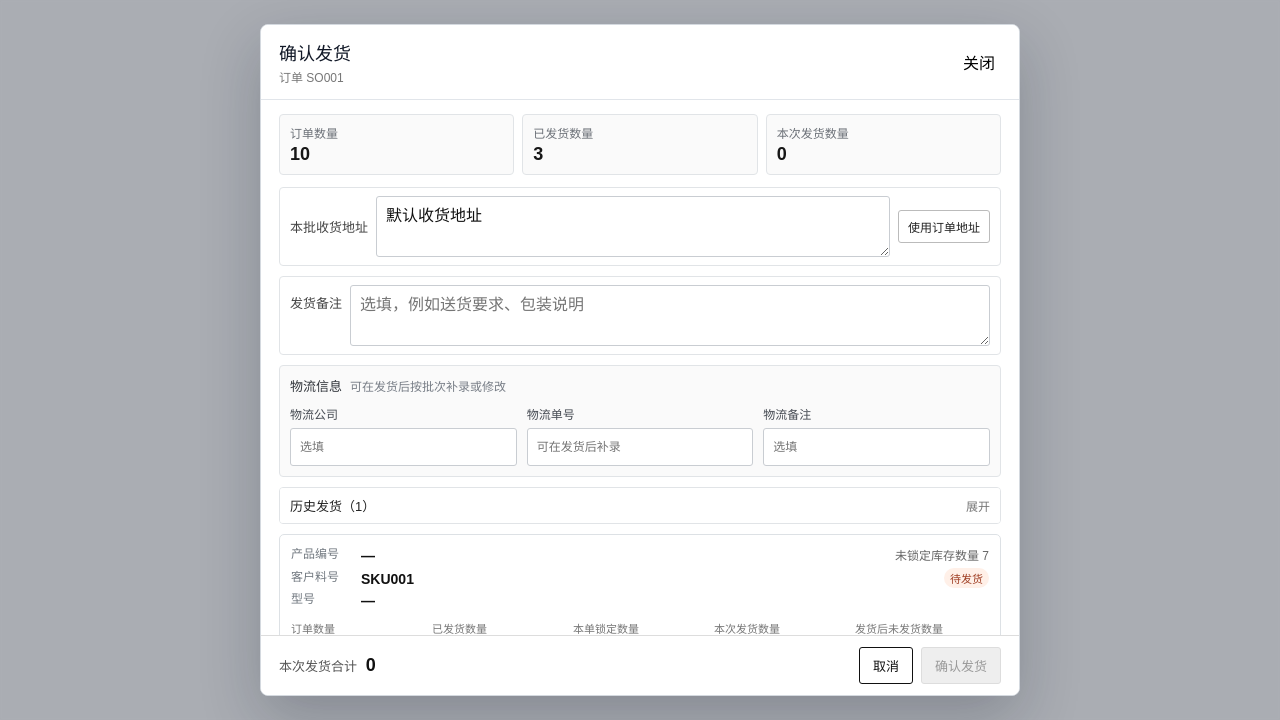
Test case: keeps historical shipment details collapsed until explicitly expanded
Step 1. Click the button with test id "shipment-history-toggle" → (333, 507), box [280, 488, 1000, 523]
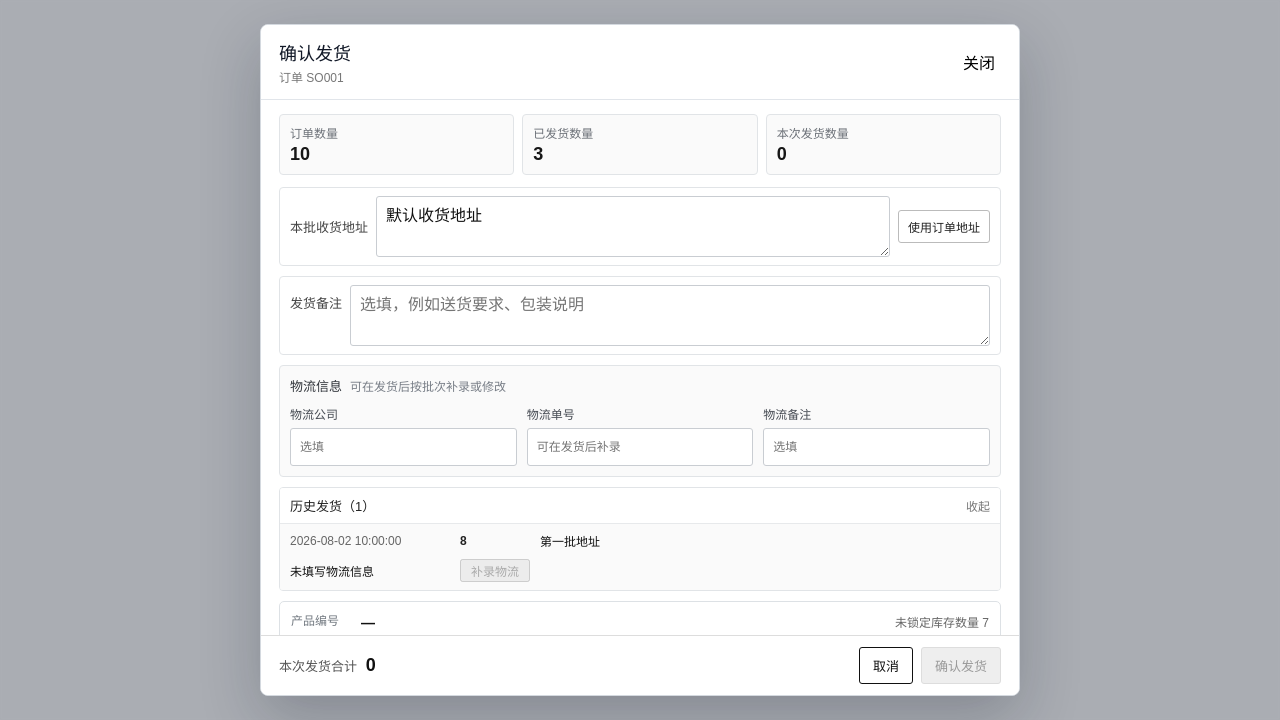
Now the text named "本批发货数量 8" reads "8", box [460, 534, 467, 548]
Now the text named "本批收货地址 第一批地址" reads "第一批地址", box [540, 535, 600, 549]
